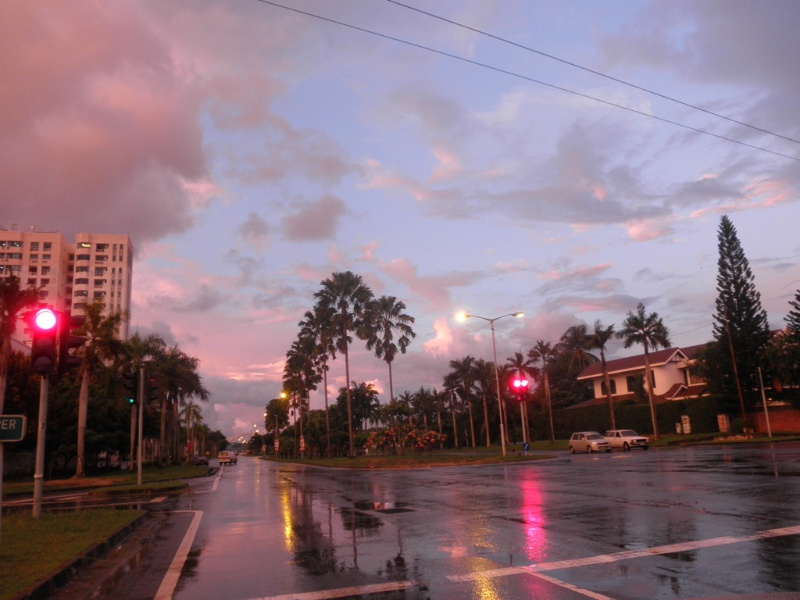red_light: (29, 305, 61, 337)
